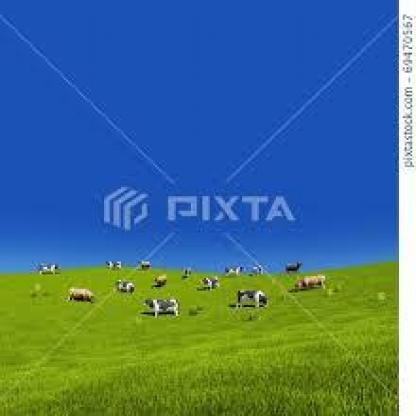cow: (142, 295, 180, 315), (236, 288, 270, 308), (294, 273, 328, 288), (67, 287, 98, 302), (114, 280, 136, 294), (200, 276, 219, 291), (224, 264, 245, 277), (42, 260, 60, 274), (286, 261, 306, 273), (108, 258, 125, 271), (155, 274, 170, 286), (249, 265, 264, 276), (141, 260, 154, 272), (185, 266, 195, 279)
